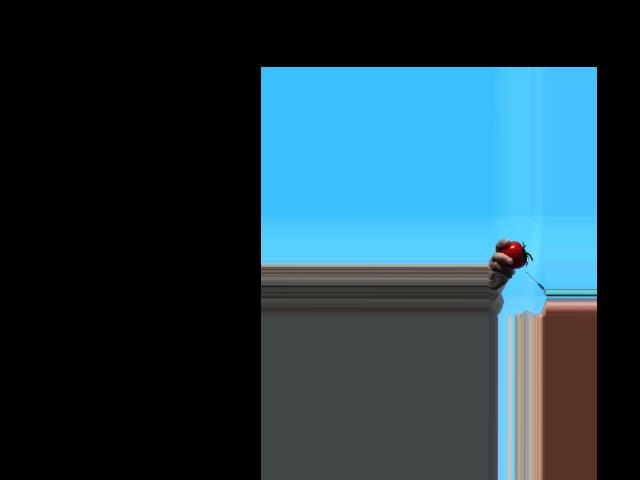tomato: (499, 240, 526, 268)
